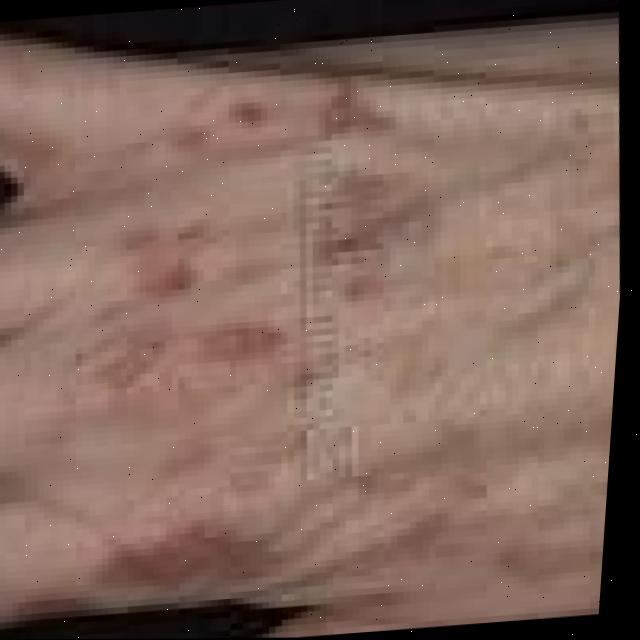Melasma: (75, 95, 455, 588)
